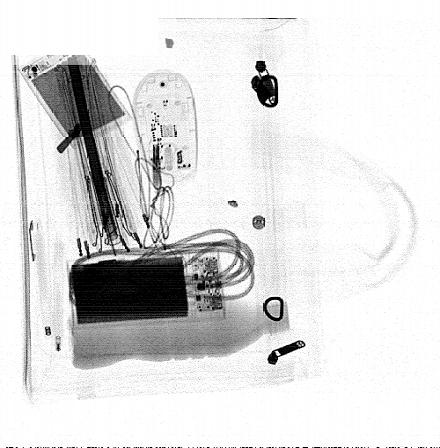Powerbank: (66, 248, 226, 330), (18, 53, 132, 151)
